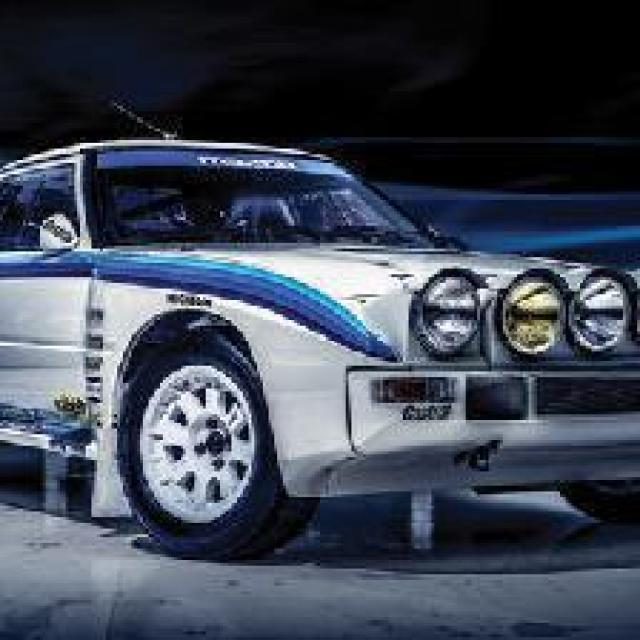damaged: (306, 423, 408, 511)
